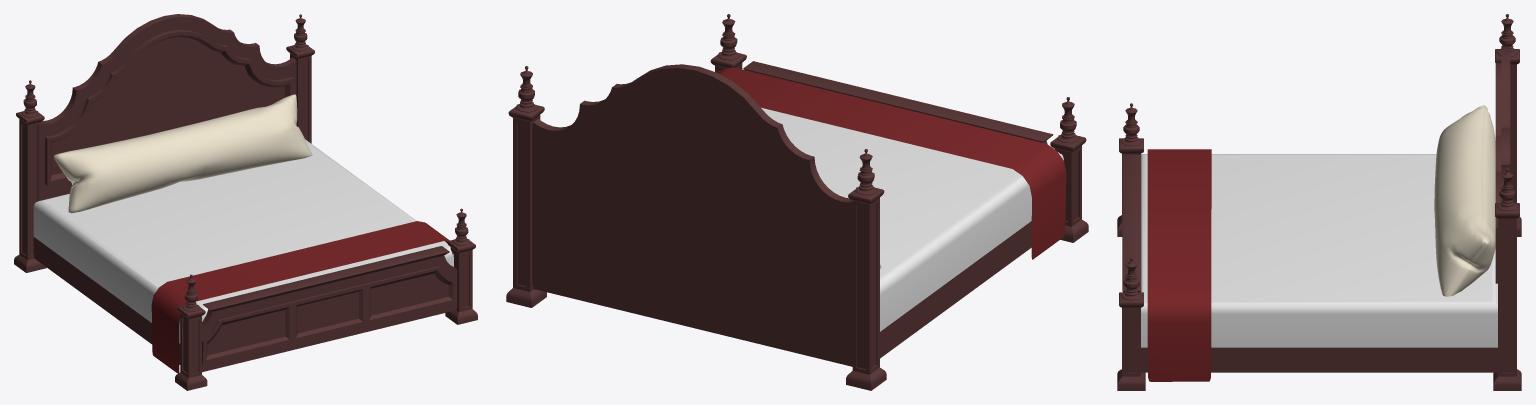
The model's file is bed.fbx.
3 views of the same model, side by side, from view 1: azimuth 30°, elevation 25°; view 2: azimuth 150°, elevation 25°; view 3: azimuth 270°, elevation 25° (orthographic). The views are drawn at different scales.
Parts seen in each view (by area): view 1: Cube.015, Cube.014, almohada low poly, manta low poly, columna cama.001, columna cama, pilar low poly, pilar.002 low poly; view 2: Cube.015, Cube.014, manta low poly, columna cama.001, columna cama, pilar.002 low poly, pilar low poly; view 3: Cube.014, manta low poly, Cube.015, almohada low poly, columna cama.001, columna cama, pilar low poly, pilar.002 low poly.
Boxes of the visible parts, box(x1,y1,x2,y2) form: Cube.015: box(33, 14, 457, 372); Cube.014: box(33, 139, 453, 343); almohada low poly: box(53, 94, 312, 213); manta low poly: box(151, 221, 449, 373); columna cama.001: box(14, 45, 314, 272); columna cama: box(175, 239, 477, 390); pilar low poly: box(182, 208, 470, 311); pilar.002 low poly: box(21, 14, 309, 117); Cube.015: box(532, 61, 1053, 366); Cube.014: box(761, 107, 1063, 331); manta low poly: box(718, 67, 1066, 259); columna cama.001: box(506, 105, 886, 390); columna cama: box(710, 53, 1088, 242); pilar.002 low poly: box(515, 66, 876, 195); pilar low poly: box(718, 14, 1079, 143); Cube.014: box(1140, 154, 1497, 347); manta low poly: box(1147, 149, 1211, 381); Cube.015: box(1122, 46, 1510, 372); almohada low poly: box(1434, 105, 1495, 296); columna cama.001: box(1493, 49, 1521, 390); columna cama: box(1117, 138, 1145, 390); pilar low poly: box(1121, 103, 1141, 300); pilar.002 low poly: box(1497, 14, 1517, 211).
Size of the model in its own units: 215 by 153 by 222.
